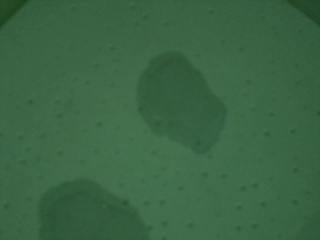Water_detected: (143, 65, 212, 137), (53, 185, 132, 240)
